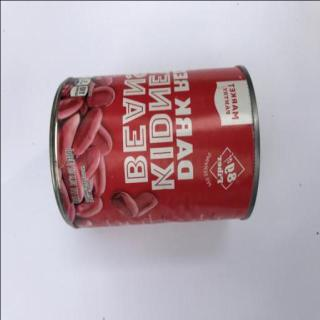Anorganik: (42, 54, 264, 240)
